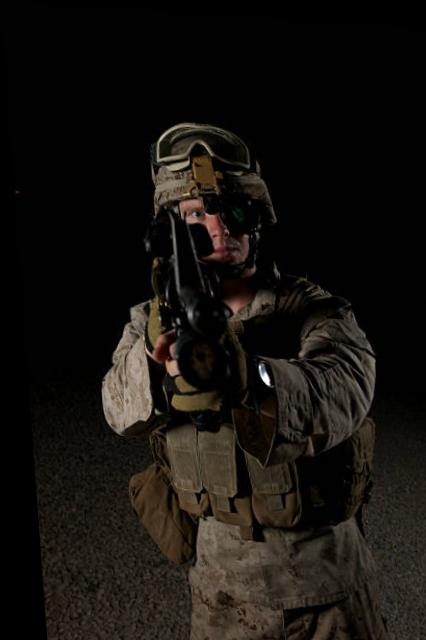other: (83, 118, 378, 640)
